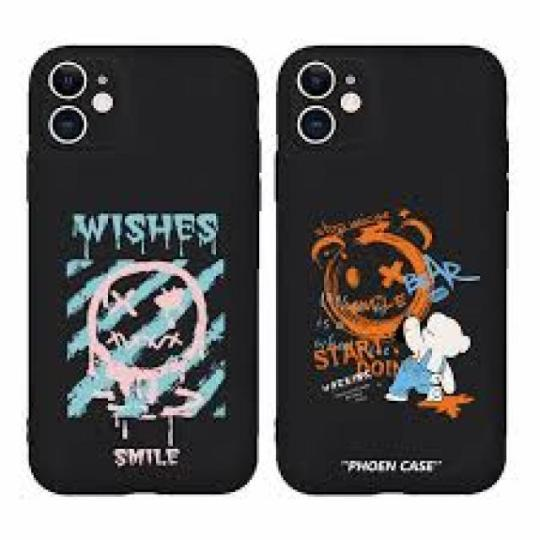phone: (22, 45, 259, 494), (274, 50, 511, 498)
